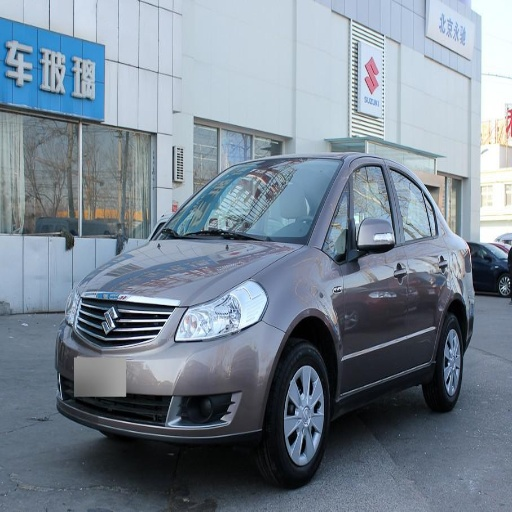front_bumper: (57, 300, 284, 443)
front_glass: (152, 160, 342, 243)
front_left_door: (328, 158, 408, 393)
